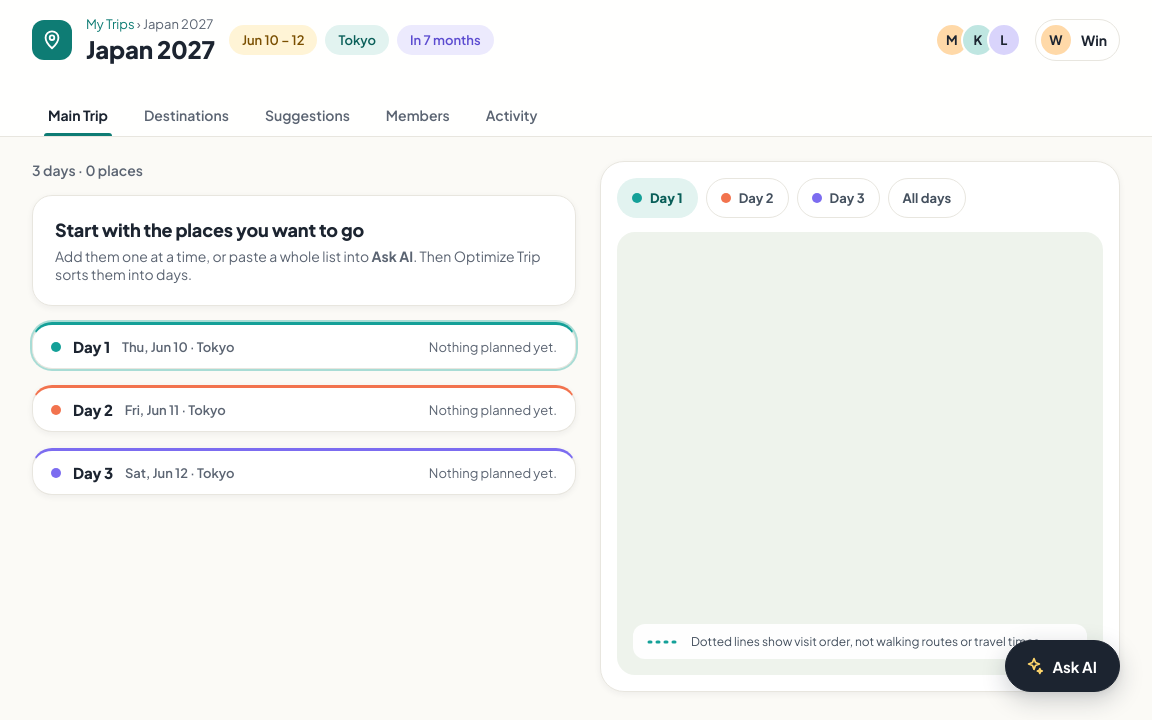
Scenario: shows assistant errors, keeps viewers read-only, and closes
Click the button "Ask AI". click: {"x": 1063, "y": 666}
box: x1=1005 y1=640 x2=1120 y2=692
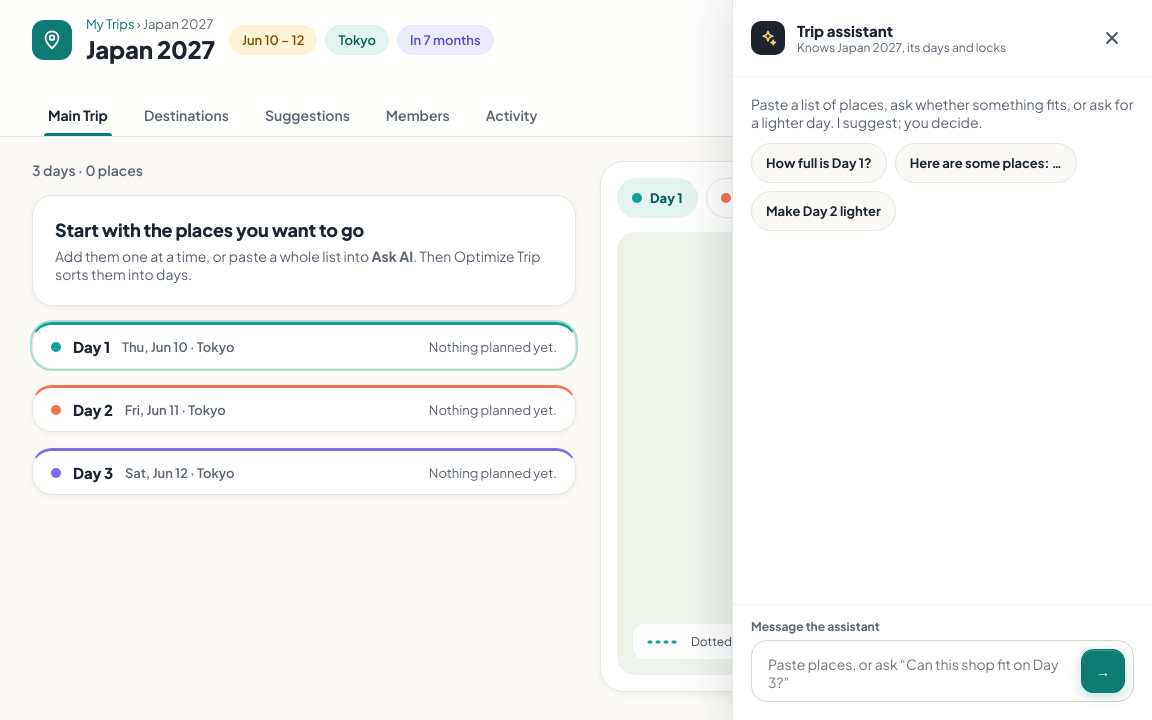
Type "hi" into the text box labelled "Message the assistant". click: {"x": 918, "y": 673}
box: x1=766 y1=653 x2=1069 y2=693
Then press Enter
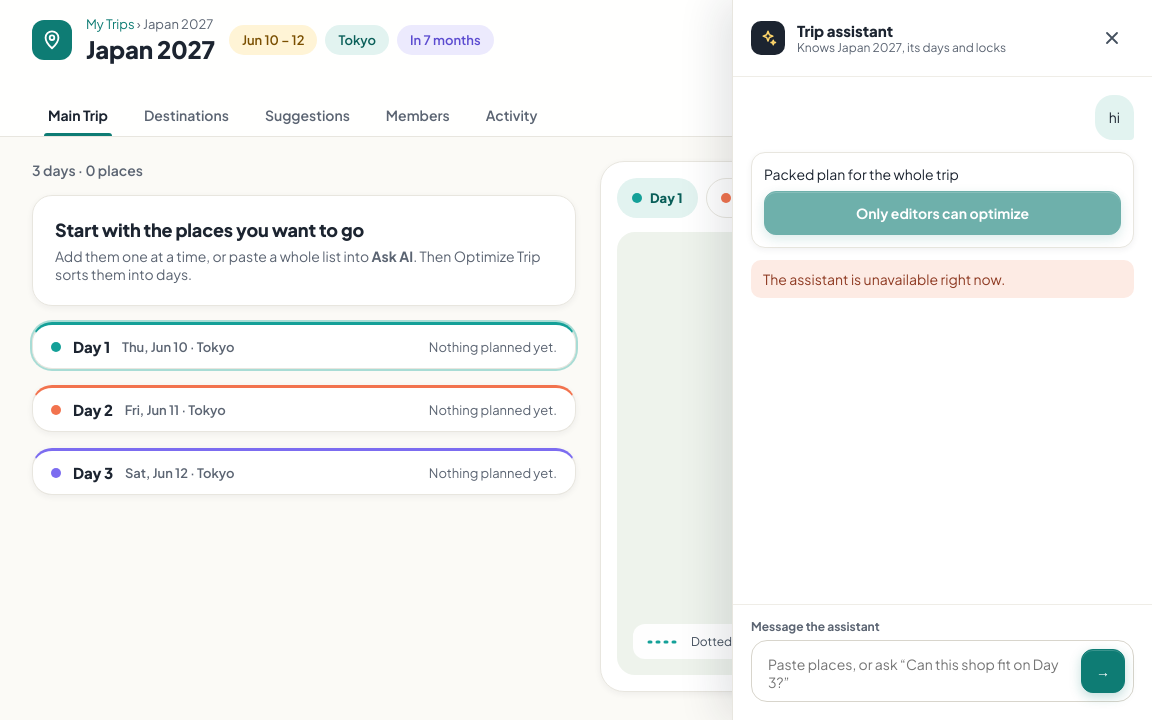
Result: the message shows "unavailable" at x1=763 y1=270 x2=1005 y2=288
Result: the button "Only editors can optimize" is disabled at x1=764 y1=191 x2=1121 y2=235
Result: the text "Packed plan for the whole trip" is shown at x1=764 y1=165 x2=959 y2=183
Click the button named "Close assistant". click: {"x": 1112, "y": 38}
box: x1=1090 y1=16 x2=1134 y2=60
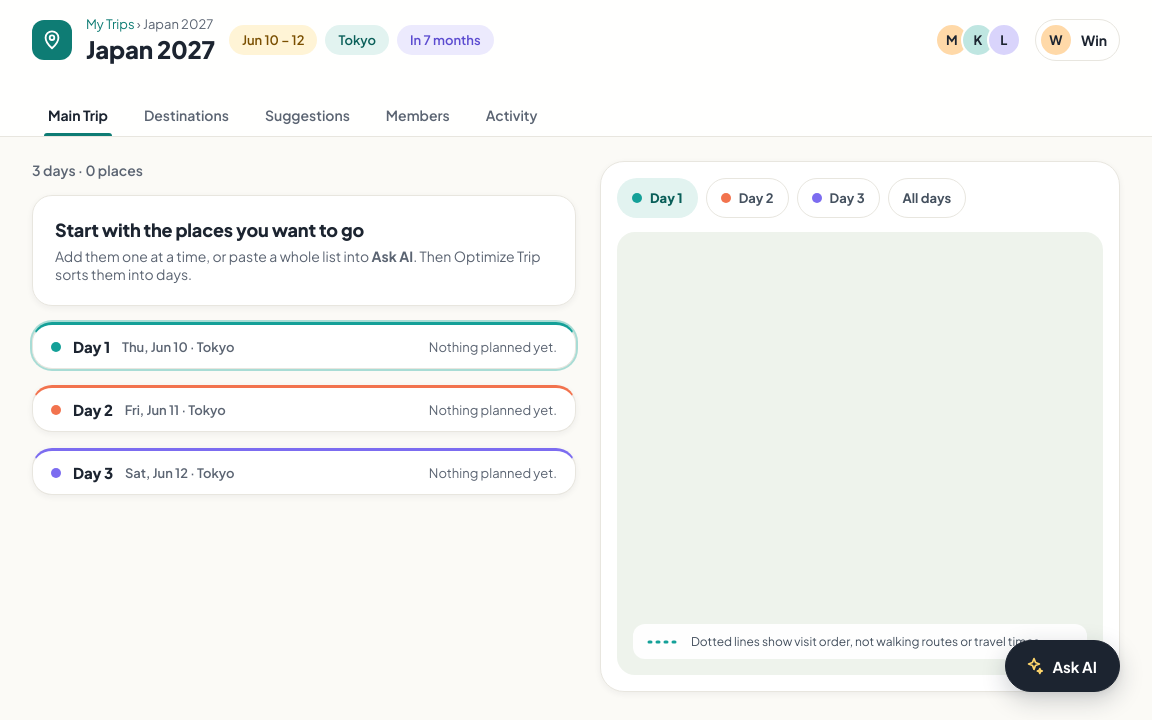
Result: the button "AI assistant" is gone
